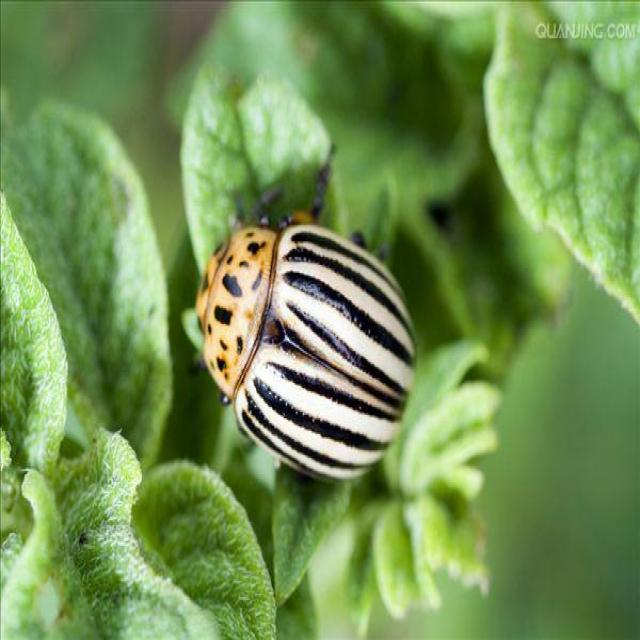ShuCaiHuaBanChong-Grown-: (178, 200, 422, 500)
